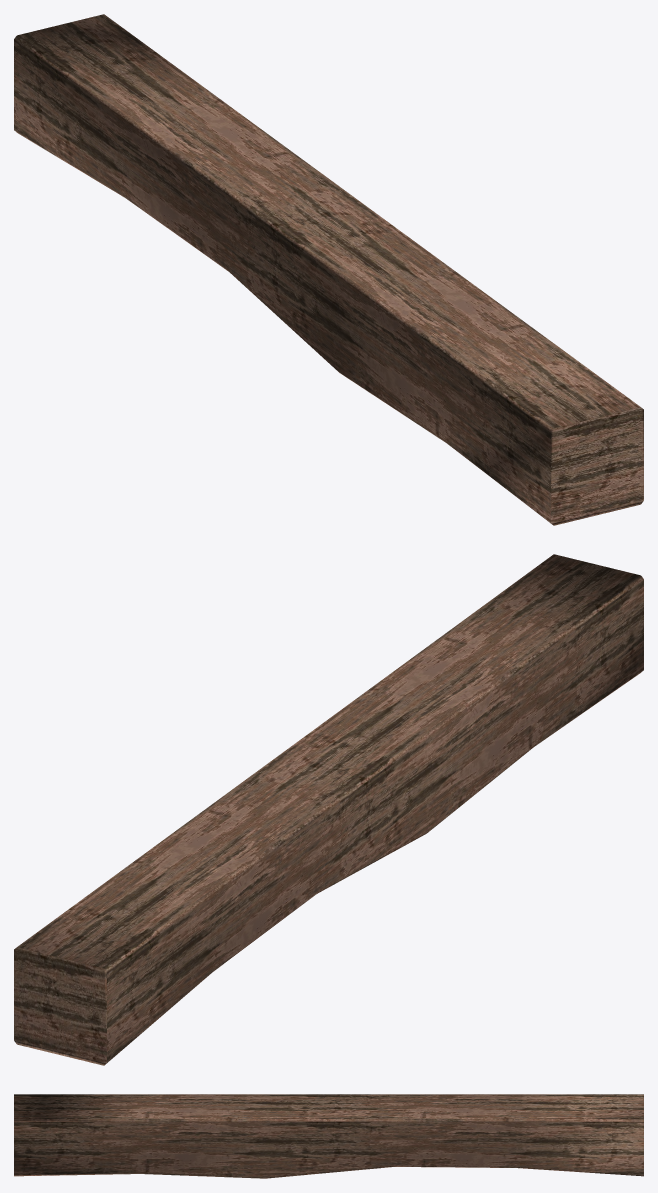
The model's file is SM_beam_02.glb.
The picture shows the model from 3 angles, top to bottom: view 1: azimuth 30°, elevation 25°; view 2: azimuth 150°, elevation 25°; view 3: azimuth 270°, elevation 25°; orthographic projection. The views are drawn at different scales.
Parts seen in each view (by area): view 1: SM_beam_02; view 2: SM_beam_02; view 3: SM_beam_02.
Boxes of the visible parts, bbox=[...] form: SM_beam_02: bbox=[14, 14, 643, 525]; SM_beam_02: bbox=[14, 554, 643, 1065]; SM_beam_02: bbox=[14, 1094, 643, 1178].
Bounding box in the file's own units: 0.5 × 0.5207 × 5.
1 material, 1 textured.
